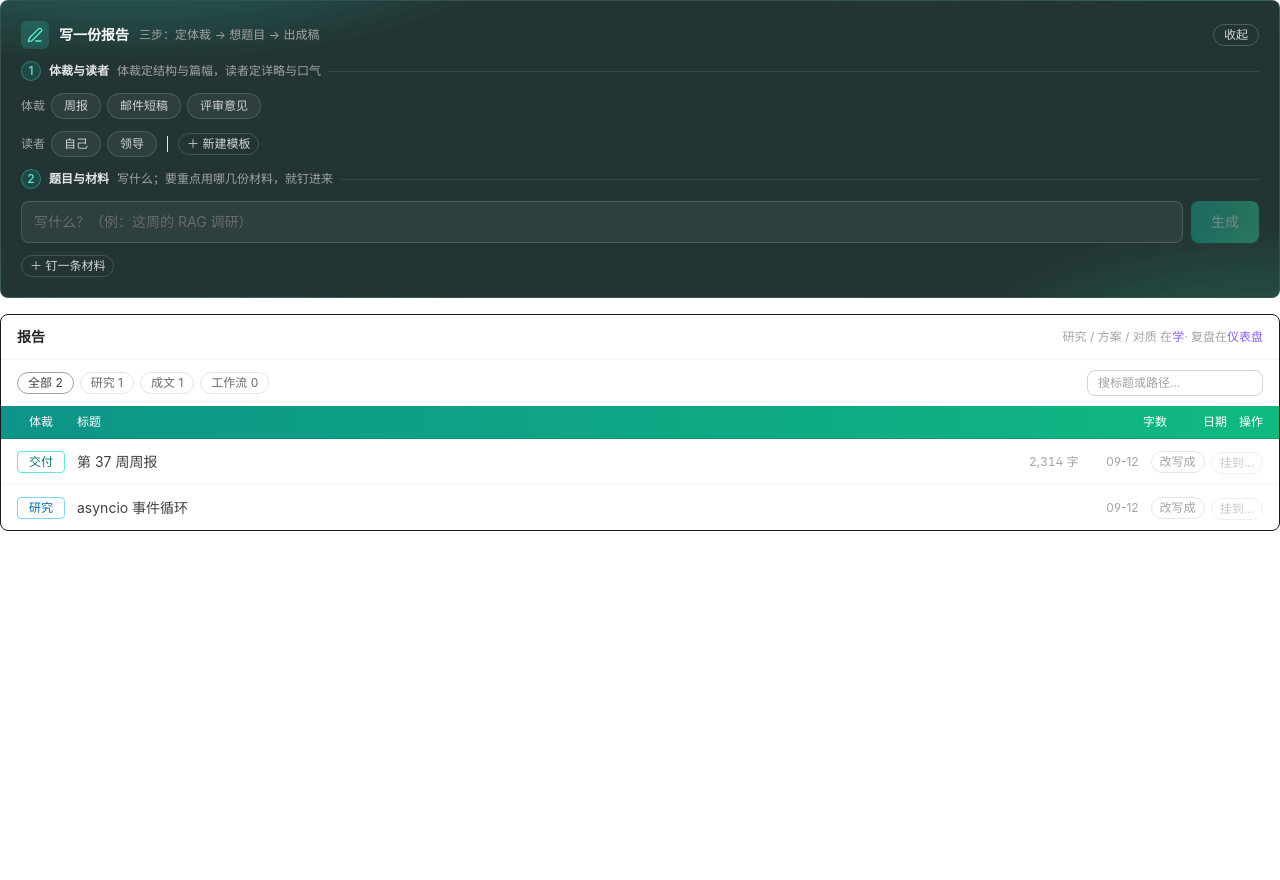
it: ReportPage · 生成面板（§8.1） › 预览里看得见「本次注入」，点 👍 时把注入清单一起带上（S1）
Expected: the button "周报" is shown, [51,93,101,119]
In the field with placeholder "写什么？（例：这周的 RAG 调研）": (602,222) [21,201,1183,243], type "这周的 RAG"
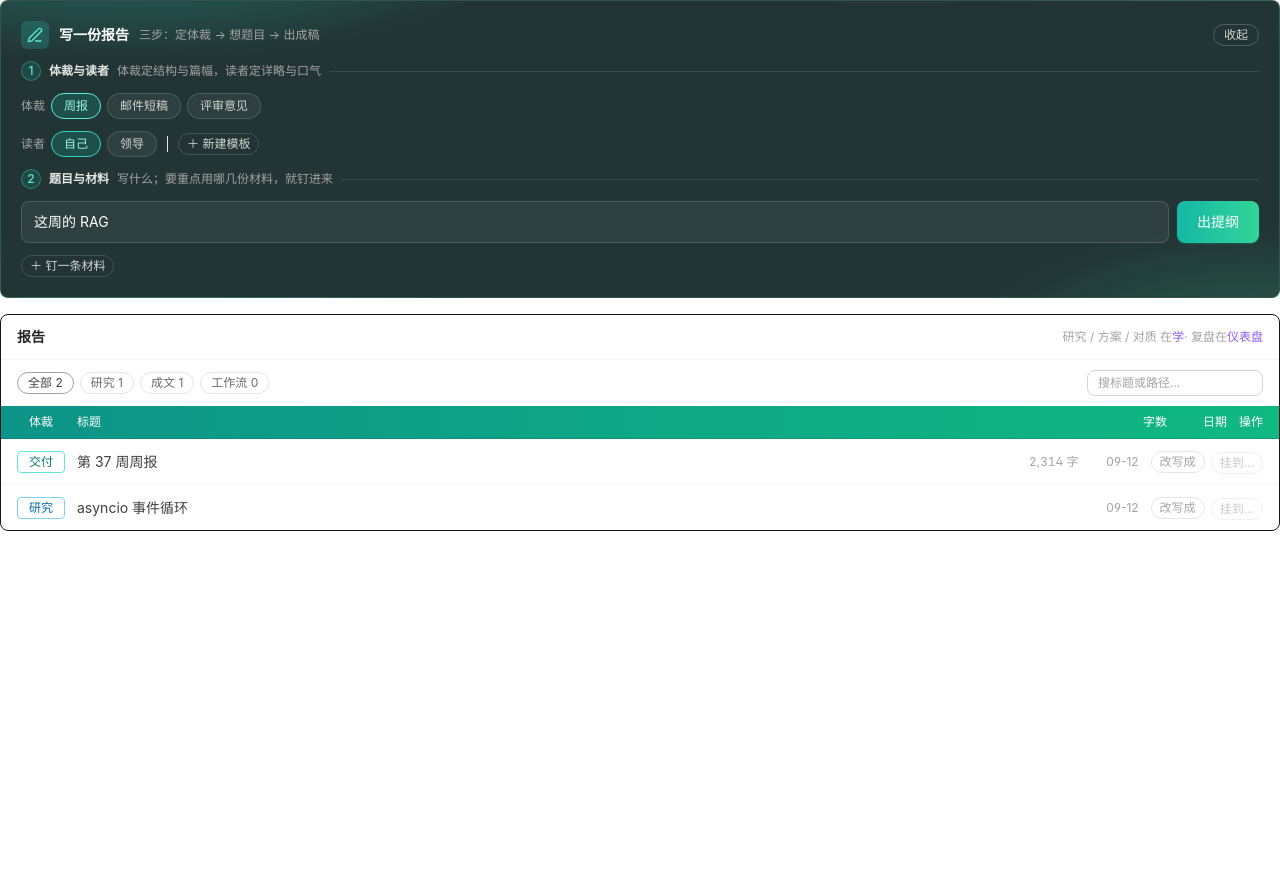
Click the button "出提纲": (1218,222) [1177,201,1259,243]
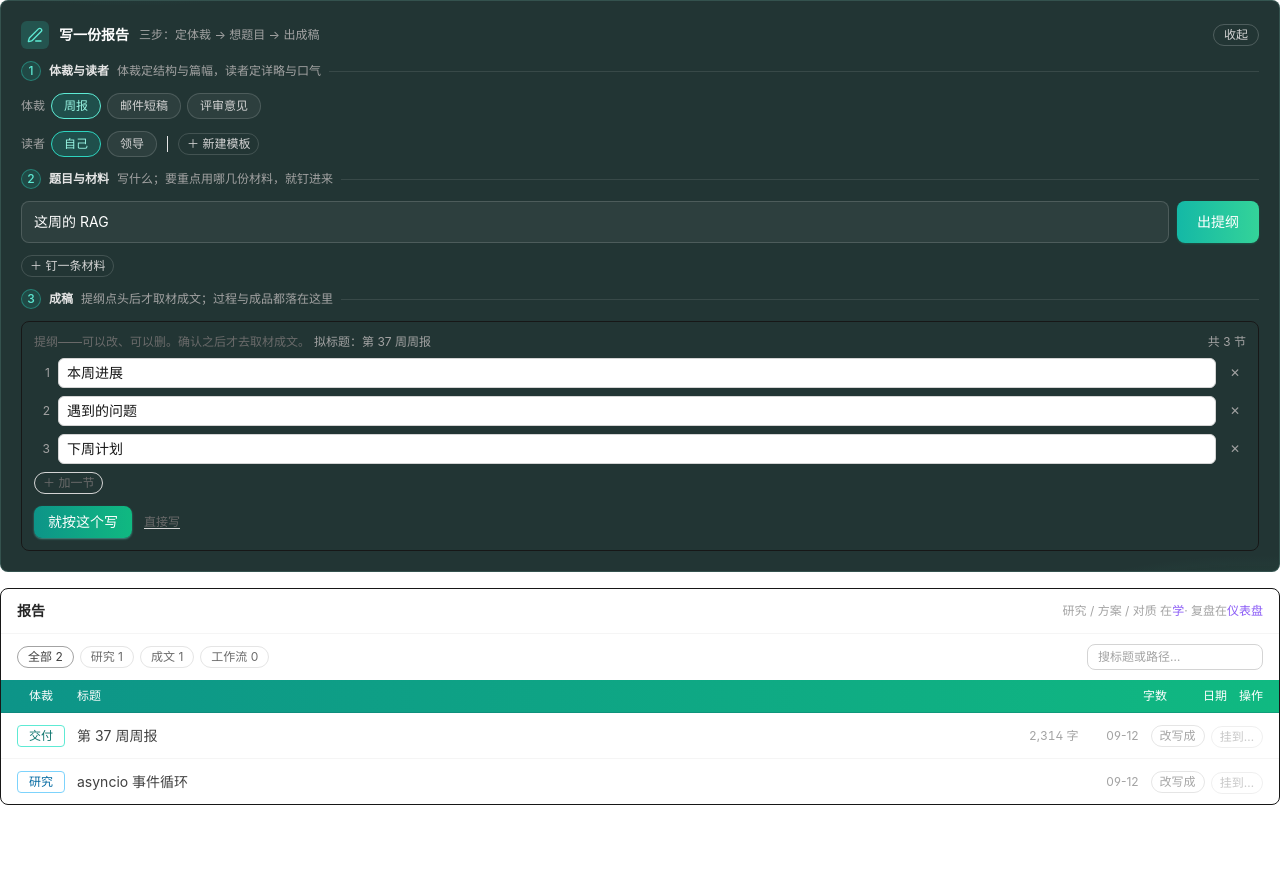
Click the button "就按这个写": (83,522) [34,506,132,538]
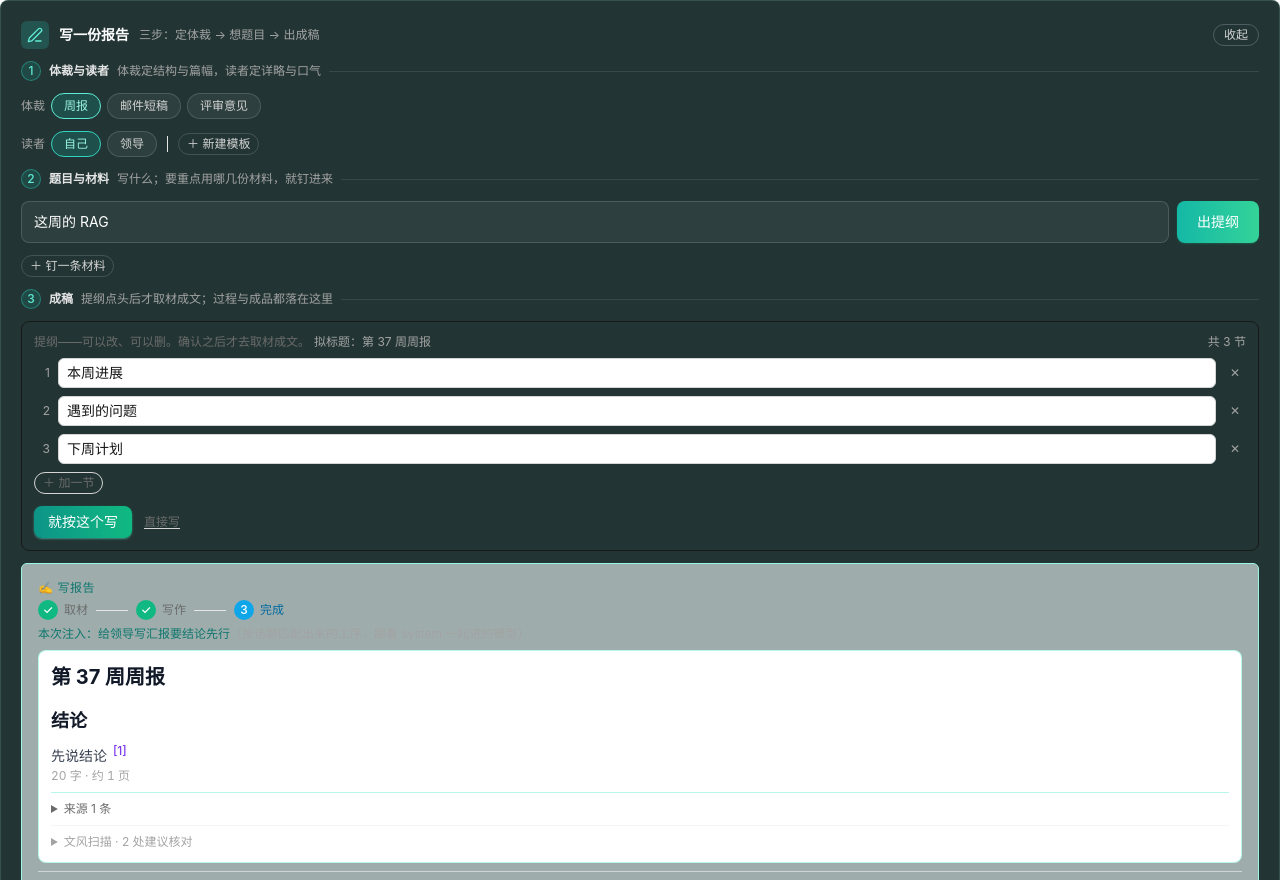
Expected: the text "本次注入：给领导写汇报要结论先行（按话题匹配出来的工序，跟着 system 一起进的模型）" is shown, [38,626,530,641]
